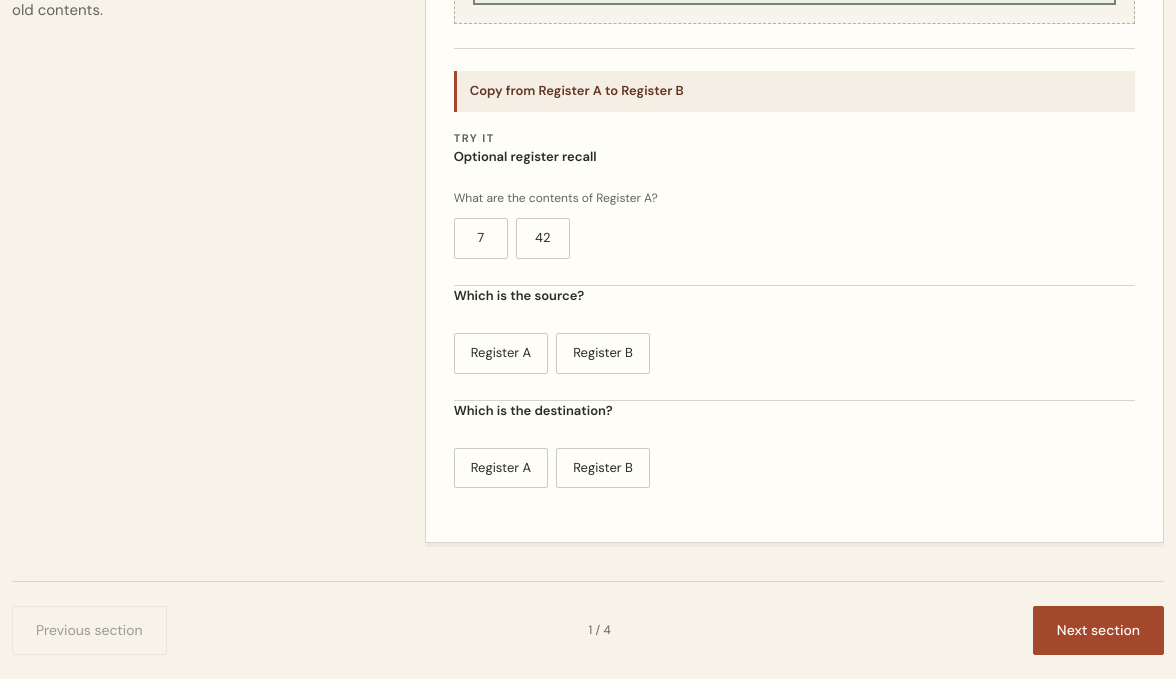
Test: a spoken register prediction also enables the copy
The width and height of the screenshot is (1176, 679).
(page scrolled)
Click the button "Next section" at (1098, 631), box [1033,606,1164,655]
(page scrolled)
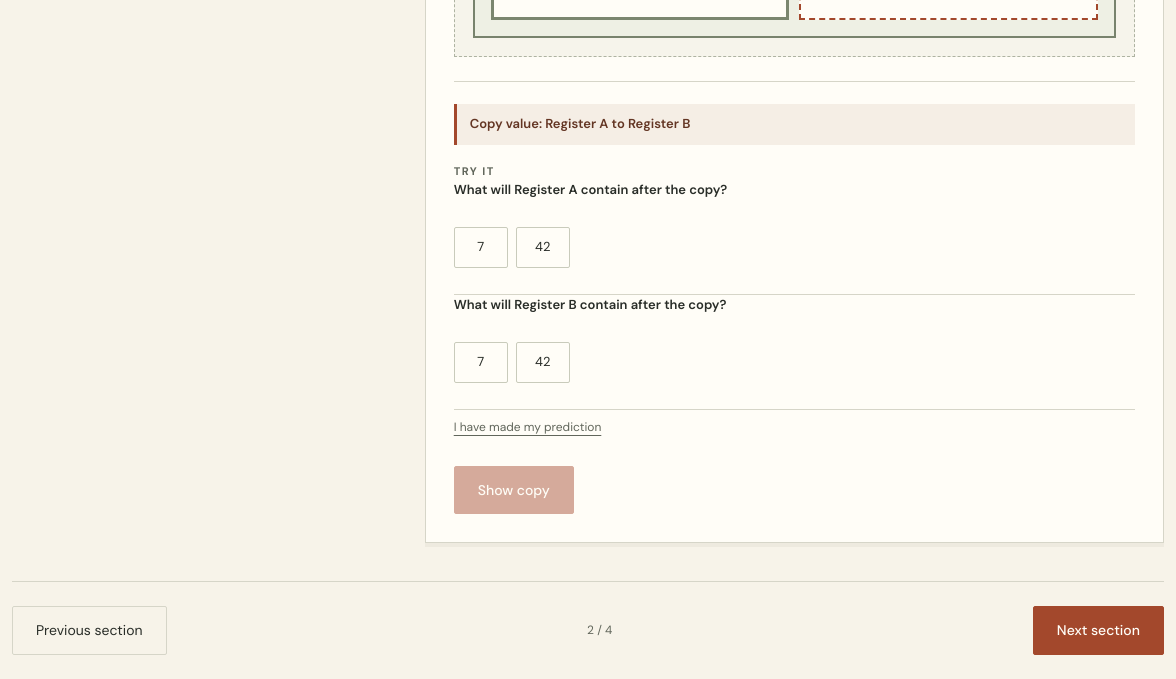
Click the button "I have made my prediction" at (528, 427), box [454,410,601,445]
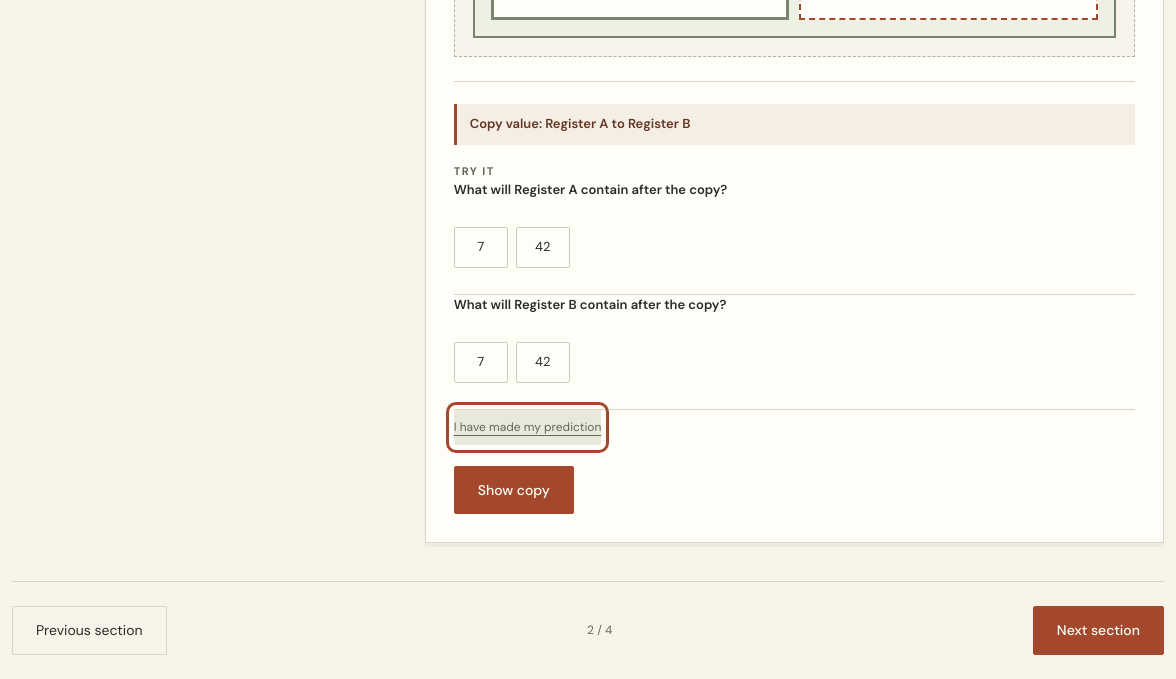
Check: the button "Show copy" is enabled, box [454,466,574,514]
